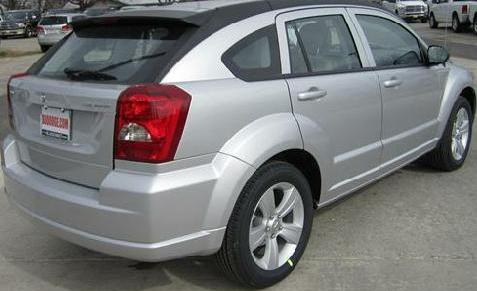back_view: (8, 74, 204, 265)
backlight: (105, 79, 200, 175)
side_glass: (279, 5, 435, 71)
